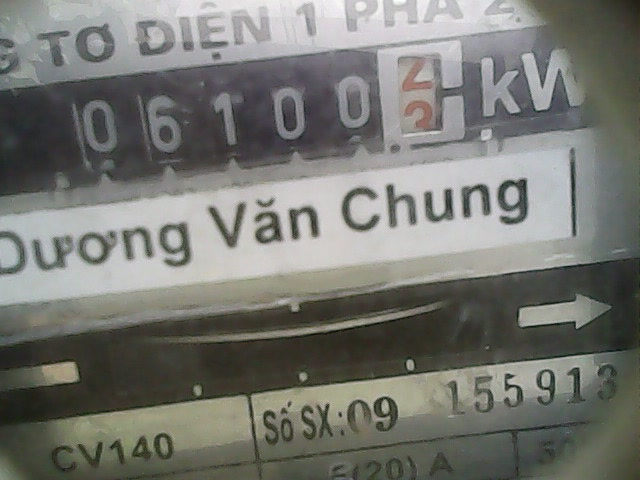phy_plate: (52, 37, 475, 183)
